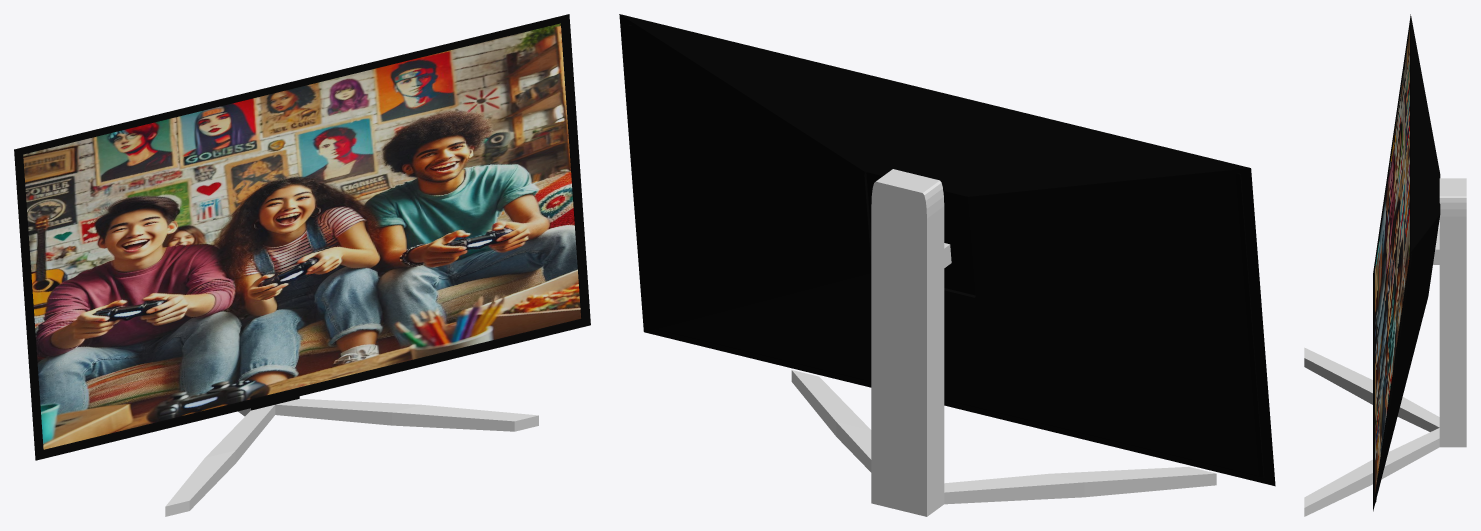
File: Monitor.glb
3 renders of one model, left to right at view 1: azimuth 30°, elevation 25°; view 2: azimuth 150°, elevation 25°; view 3: azimuth 270°, elevation 25°, orthographic. The views are drawn at different scales.
Visible parts, largest first — view 1: gaming, Plane, Cube; view 2: Plane, Cube; view 3: Cube, Plane, gaming.
Boxes of the visible parts, x1,y1,x2,y2 form: gaming: (23,23,581,449); Plane: (14,14,590,460); Cube: (165,396,538,516); Plane: (619,14,1275,486); Cube: (791,169,1216,516); Cube: (1304,178,1466,516); Plane: (1373,14,1440,511); gaming: (1375,30,1409,493).
Size of the model in its own units: 2.94 by 1.76 by 0.846.
Materials: 4 (1 with a texture image).
